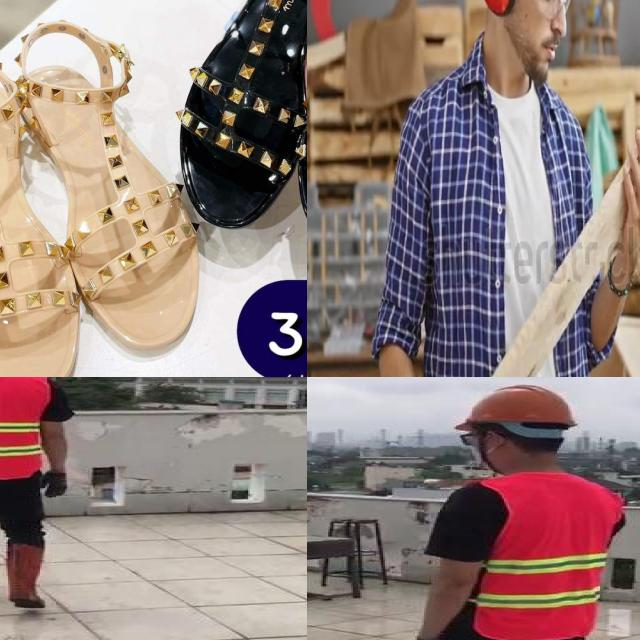Ear-protection: (477, 0, 521, 31)
Sandals: (0, 0, 216, 377), (144, 0, 307, 283)
boots: (3, 542, 49, 611)
glasses: (527, 0, 580, 16)
hand_glove: (40, 473, 70, 500)
head_helmet: (449, 382, 582, 427)
person: (369, 0, 640, 377), (393, 377, 626, 640), (0, 377, 79, 620)
vest: (455, 473, 621, 640), (0, 377, 51, 482)
